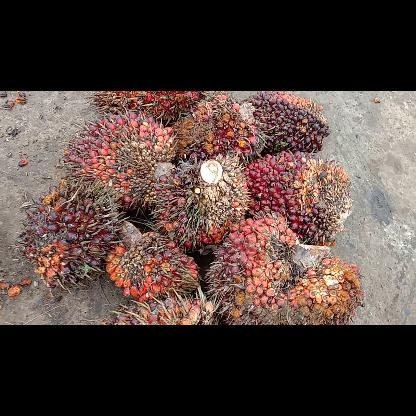TBS masak: (206, 214, 362, 324), (66, 112, 178, 210), (17, 183, 121, 287), (246, 150, 350, 246), (156, 154, 252, 252), (107, 219, 200, 300), (173, 92, 263, 156), (246, 92, 330, 154), (90, 93, 216, 121), (104, 298, 222, 322)
